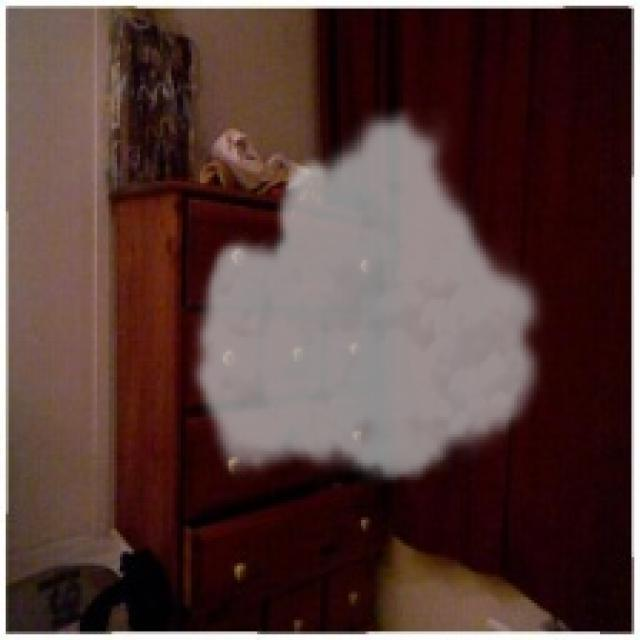Smoke: (188, 103, 552, 486)
